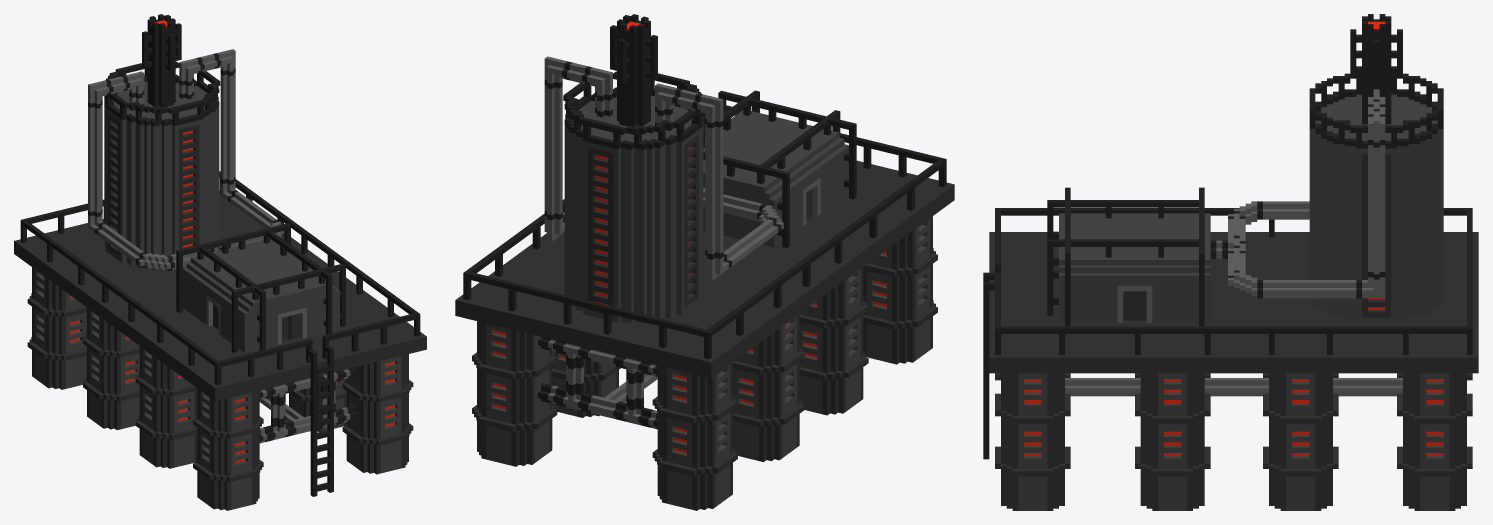
Rendered from LavaProcessingPlant.FBX.
The picture shows the model from 3 angles, left to right: view 1: azimuth 30°, elevation 25°; view 2: azimuth 150°, elevation 25°; view 3: azimuth 270°, elevation 25°; orthographic projection. The views are drawn at different scales.
Visible parts, largest first — view 1: LavaProcessingPlant; view 2: LavaProcessingPlant; view 3: LavaProcessingPlant.
Boxes of the visible parts, left/top/right/bottom form: LavaProcessingPlant: left=14, top=14, right=426, bottom=510; LavaProcessingPlant: left=455, top=14, right=954, bottom=510; LavaProcessingPlant: left=983, top=14, right=1478, bottom=510.
Size of the model in its own units: 51 by 82 by 85.
